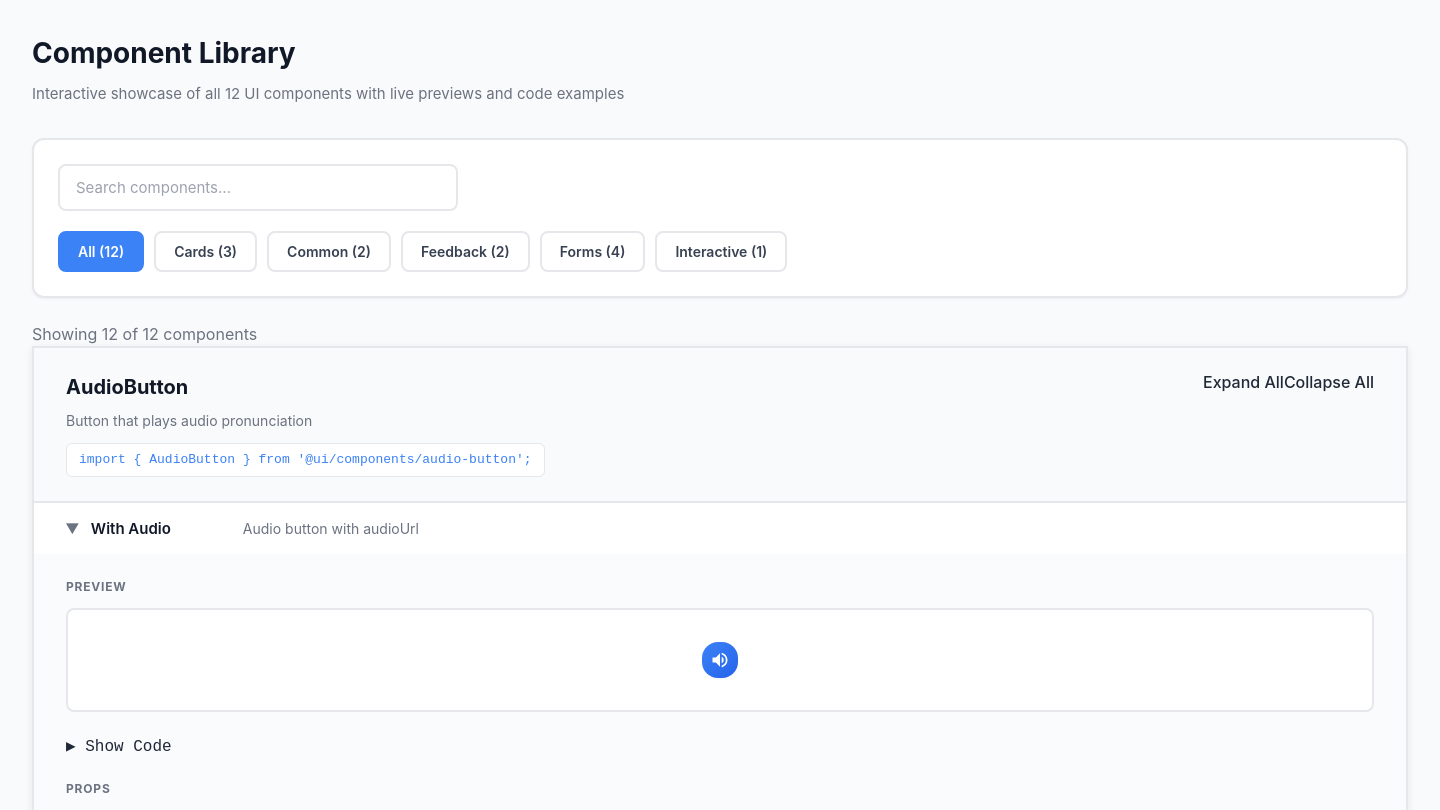
Scenario: ComponentLibrary › Search Functionality › should clear search when clear button is clicked
Type "button" into the field with placeholder "Search components..." at (258, 188), box left=58, top=164, right=458, bottom=211
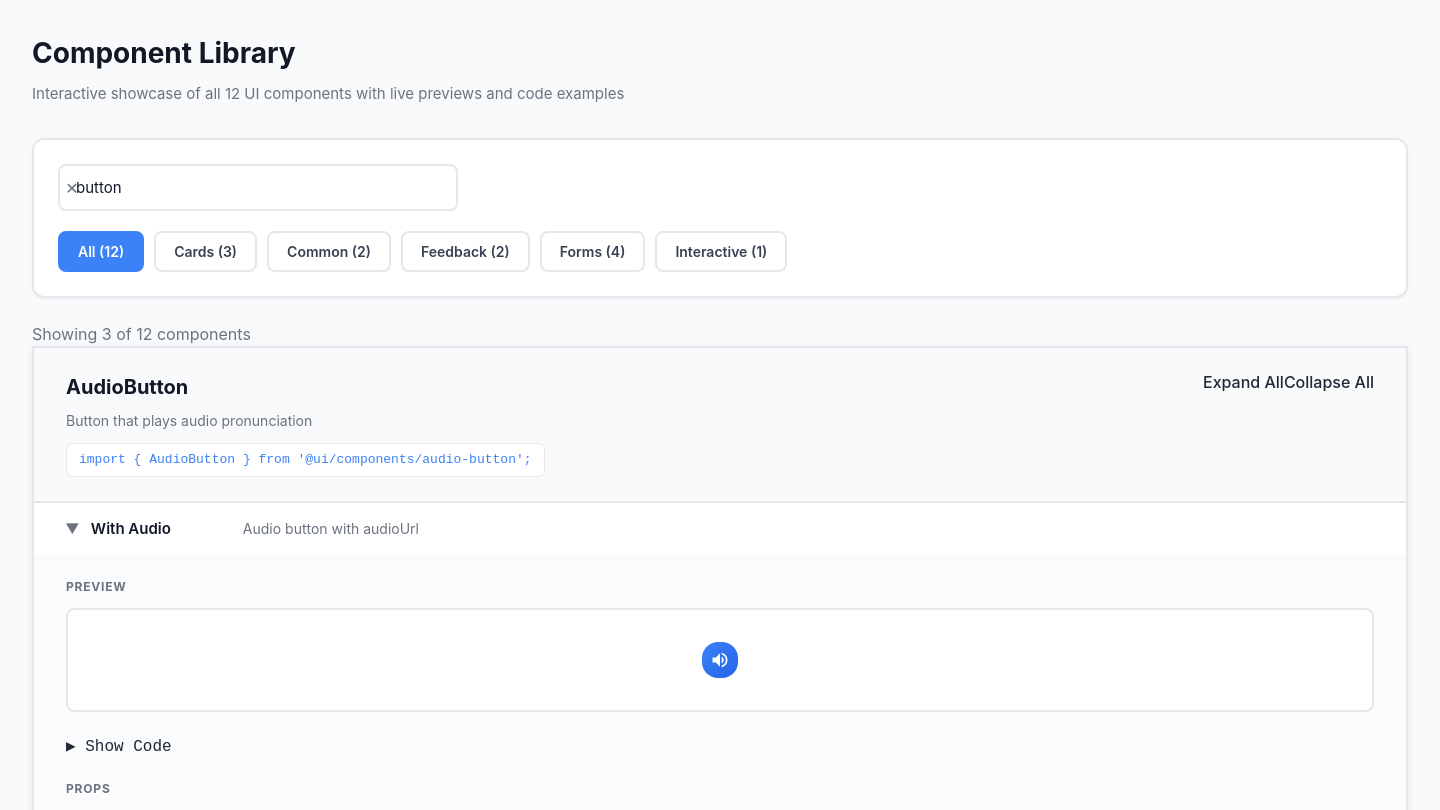
Click the button named "clear search" at (72, 188), box left=58, top=174, right=86, bottom=202
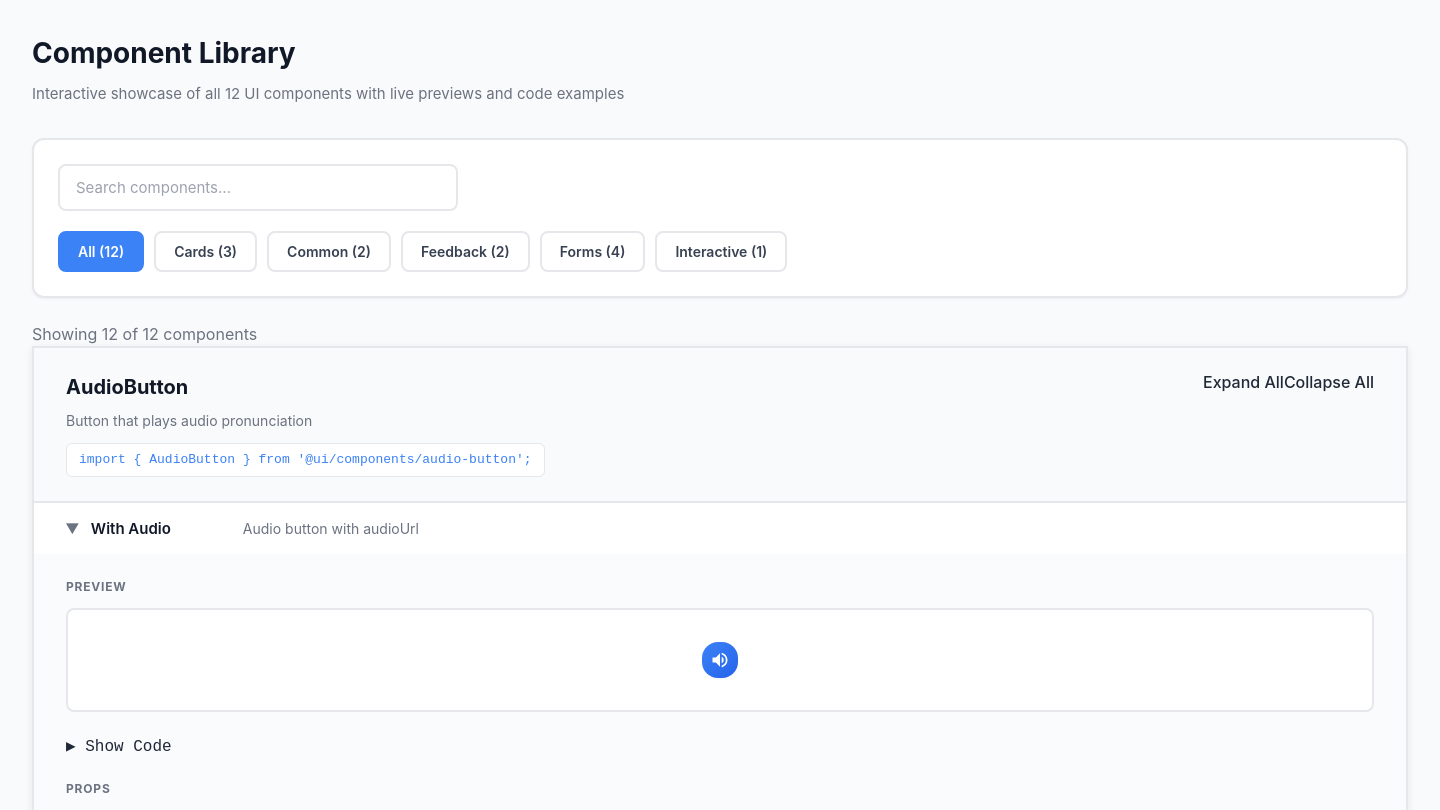
Now the field with placeholder "Search components..." is empty, box left=58, top=164, right=458, bottom=211
Now the text "Showing 12 of 12 components" is shown, box left=32, top=324, right=257, bottom=344
